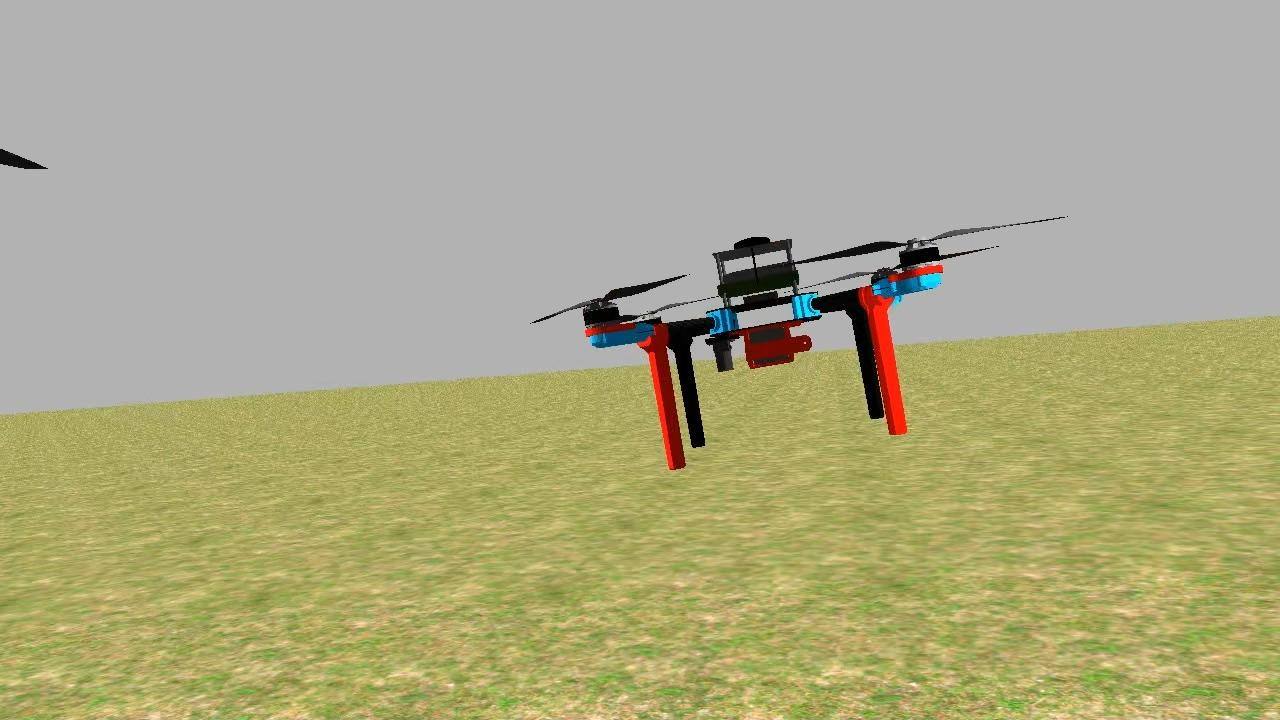UAV: (561, 219, 978, 483)
